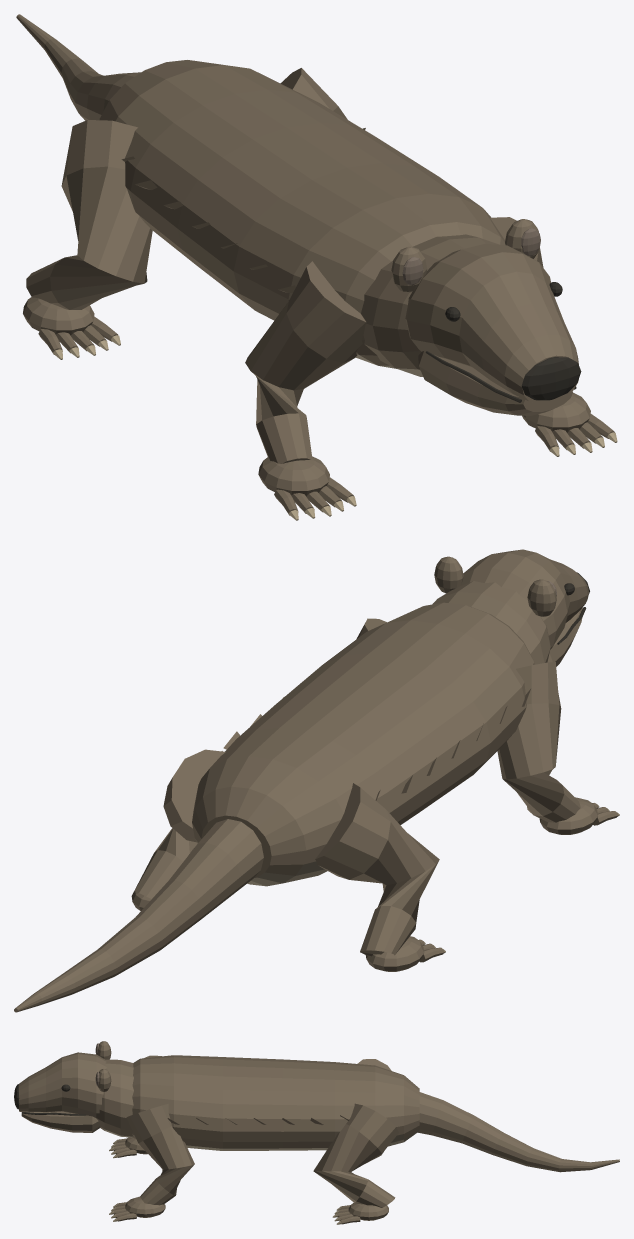
The picture shows the model from 3 angles, top to bottom: view 1: azimuth 30°, elevation 25°; view 2: azimuth 150°, elevation 25°; view 3: azimuth 270°, elevation 25°; orthographic projection. The views are drawn at different scales.
Parts seen in each view (by area): view 1: long-robust-trunk, elongate-heavy-head, left-stout-hindlimb, left-stout-forelimb, strong-neck, long-round-tapering-tail, deep-powerful-mandible, left-hand-palm, nose, left-foot-palm, right-hand-palm, right-hand-five-short-digits (+4 smaller); view 2: long-robust-trunk, long-round-tapering-tail, left-stout-hindlimb, left-stout-forelimb, elongate-heavy-head, right-stout-hindlimb, strong-neck, left-foot-palm, left-hand-palm, left-ear, right-ear, deep-powerful-mandible; view 3: long-robust-trunk, right-stout-hindlimb, long-round-tapering-tail, elongate-heavy-head, right-stout-forelimb, strong-neck, deep-powerful-mandible, right-hand-palm, right-foot-palm, left-hand-five-short-digits, right-hand-five-short-digits, right-foot-five-short-digits.
Boxes of the visible parts, left/top/right/bottom form: long-robust-trunk: left=99, top=60, right=505, bottom=368; elongate-heavy-head: left=405, top=243, right=578, bottom=405; left-stout-hindlimb: left=26, top=120, right=152, bottom=309; left-stout-forelimb: left=245, top=261, right=366, bottom=463; strong-neck: left=361, top=234, right=498, bottom=376; long-round-tapering-tail: left=16, top=14, right=140, bottom=120; deep-powerful-mandible: left=418, top=350, right=572, bottom=415; left-hand-palm: left=258, top=456, right=329, bottom=496; nose: left=521, top=357, right=581, bottom=400; left-foot-palm: left=23, top=297, right=94, bottom=335; right-hand-palm: left=522, top=392, right=590, bottom=432; right-hand-five-short-digits: left=535, top=414, right=614, bottom=451; long-robust-trunk: left=192, top=602, right=534, bottom=886; long-round-tapering-tail: left=14, top=819, right=263, bottom=1012; left-stout-hindlimb: left=315, top=783, right=439, bottom=956; left-stout-forelimb: left=497, top=662, right=580, bottom=822; elongate-heavy-head: left=461, top=549, right=588, bottom=649; right-stout-hindlimb: left=134, top=749, right=225, bottom=898; strong-neck: left=432, top=581, right=550, bottom=664; left-foot-palm: left=365, top=936, right=424, bottom=971; left-hand-palm: left=539, top=797, right=597, bottom=834; left-ear: left=527, top=579, right=556, bottom=616; right-ear: left=434, top=556, right=463, bottom=593; deep-powerful-mandible: left=547, top=608, right=582, bottom=666; long-robust-trunk: left=132, top=1055, right=419, bottom=1150; right-stout-hindlimb: left=313, top=1103, right=398, bottom=1207; long-round-tapering-tail: left=418, top=1092, right=619, bottom=1172; elongate-heavy-head: left=19, top=1052, right=106, bottom=1117; right-stout-forelimb: left=126, top=1104, right=194, bottom=1205; strong-neck: left=96, top=1059, right=133, bottom=1137; deep-powerful-mandible: left=21, top=1111, right=100, bottom=1132; right-hand-palm: left=125, top=1196, right=165, bottom=1217; right-foot-palm: left=348, top=1203, right=388, bottom=1220; left-hand-five-short-digits: left=113, top=1138, right=136, bottom=1157; right-hand-five-short-digits: left=113, top=1202, right=136, bottom=1221; right-foot-five-short-digits: left=337, top=1205, right=360, bottom=1224.
Bounding box in the file's own units: 0.3527 × 0.2457 × 1.05.
